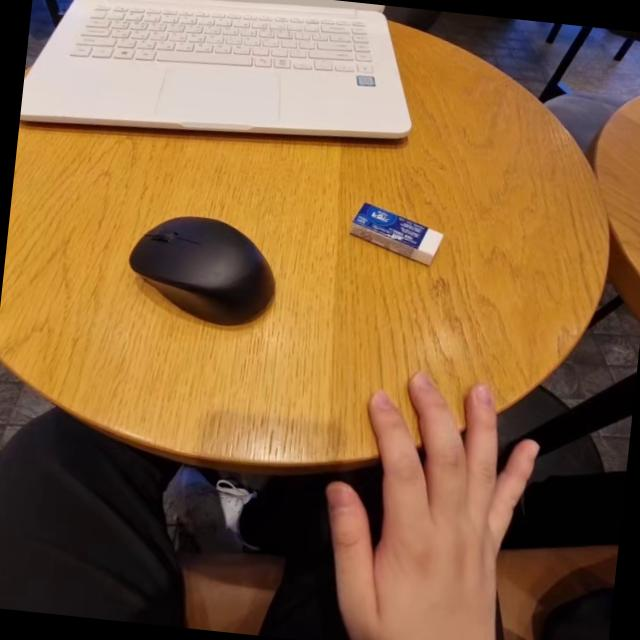eraser: (342, 200, 454, 272)
hand: (309, 361, 549, 640)
mouse: (114, 209, 291, 328)
